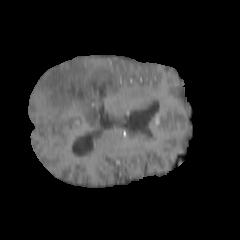glioma: (38, 60, 120, 134)
